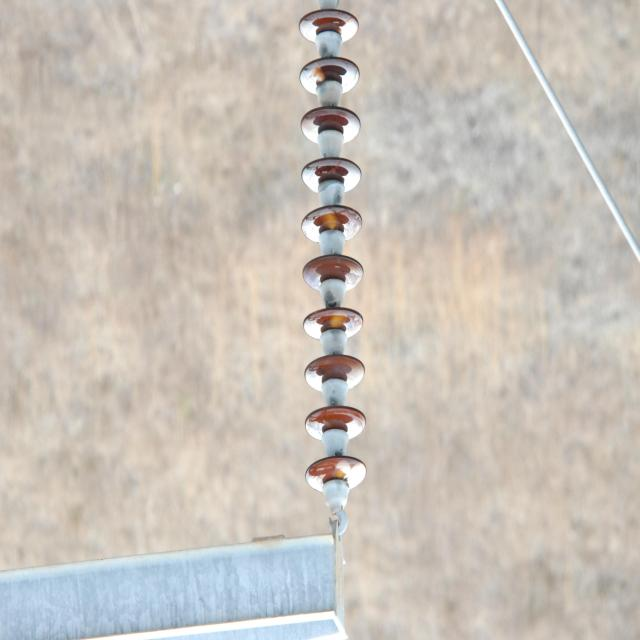insulator: (300, 10, 368, 495)
